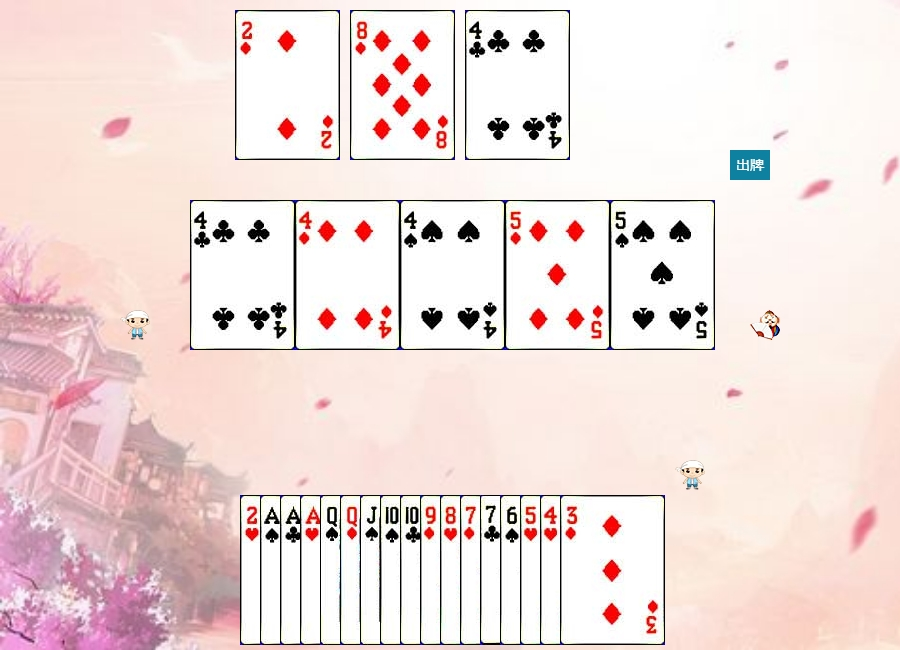10~2: (400, 495, 505, 645)
10~4: (380, 495, 485, 645)
11~4: (360, 495, 465, 645)
12~1: (340, 495, 445, 645)
12~4: (320, 495, 425, 645)
14~2: (280, 495, 385, 645)
14~3: (300, 495, 405, 645)
14~4: (260, 495, 365, 645)
15~1: (235, 10, 340, 160)
15~3: (240, 495, 345, 645)
3~1: (560, 495, 665, 645)
4~1: (295, 200, 400, 350)
4~2: (465, 10, 570, 160), (190, 200, 295, 350)
4~3: (540, 495, 645, 645)
4~4: (400, 200, 505, 350)
5~1: (505, 200, 610, 350)
5~3: (520, 495, 625, 645)
5~4: (610, 200, 715, 350)
6~4: (500, 495, 605, 645)
7~1: (460, 495, 565, 645)
7~2: (480, 495, 585, 645)
8~1: (350, 10, 455, 160)
8~3: (440, 495, 545, 645)
9~1: (420, 495, 525, 645)
